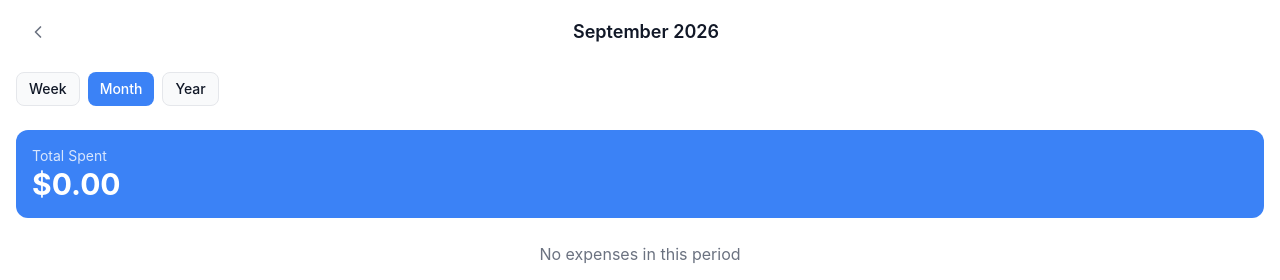
it: InsightsPage › period navigation › shows Today button after navigating away from current period
Click the button named "Previous period": (38, 32) [16,16,60,48]
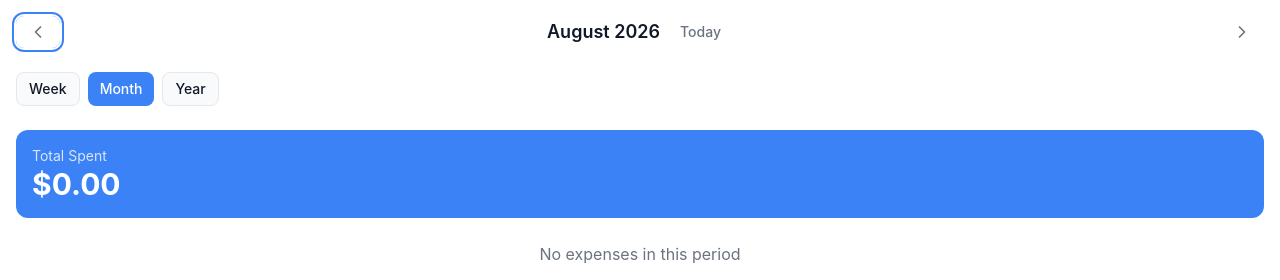
Result: the button with aria-label "Go to today" is shown at [668,16,733,48]
